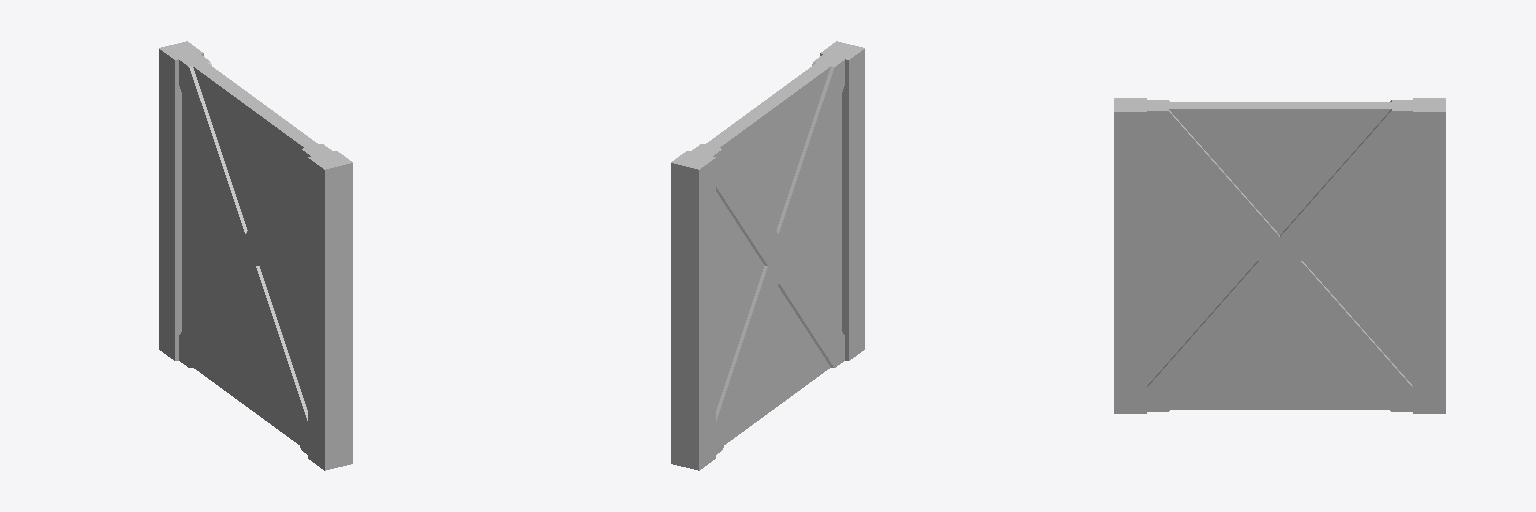
Rendered from wallDetailCross.obj.
The picture shows the model from 3 angles: view 1: azimuth 30°, elevation 25°; view 2: azimuth 150°, elevation 25°; view 3: azimuth 270°, elevation 25°; orthographic projection.
Visible parts, largest first — view 1: wallDetailCross; view 2: wallDetailCross; view 3: wallDetailCross.
Boxes of the visible parts, box(x1,y1,x2,y2) form: wallDetailCross: box(159, 41, 352, 470); wallDetailCross: box(671, 41, 864, 470); wallDetailCross: box(1114, 98, 1445, 413).
Size of the model in its own units: 0.1 by 1 by 1.